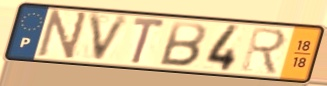4: (204, 22, 241, 74)
B: (156, 20, 208, 69)
N: (34, 8, 91, 63)
R: (239, 25, 288, 77)
T: (129, 15, 168, 67)
V: (87, 11, 134, 66)
